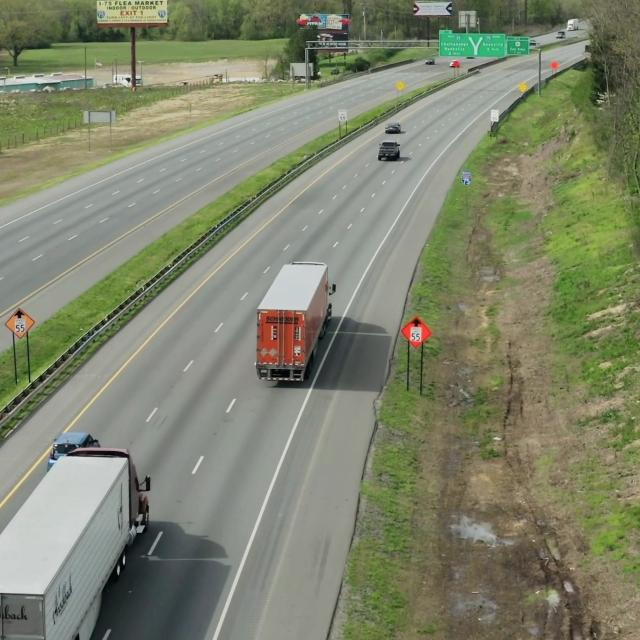Car: (0, 446, 155, 640), (257, 255, 338, 379), (375, 139, 404, 162)
